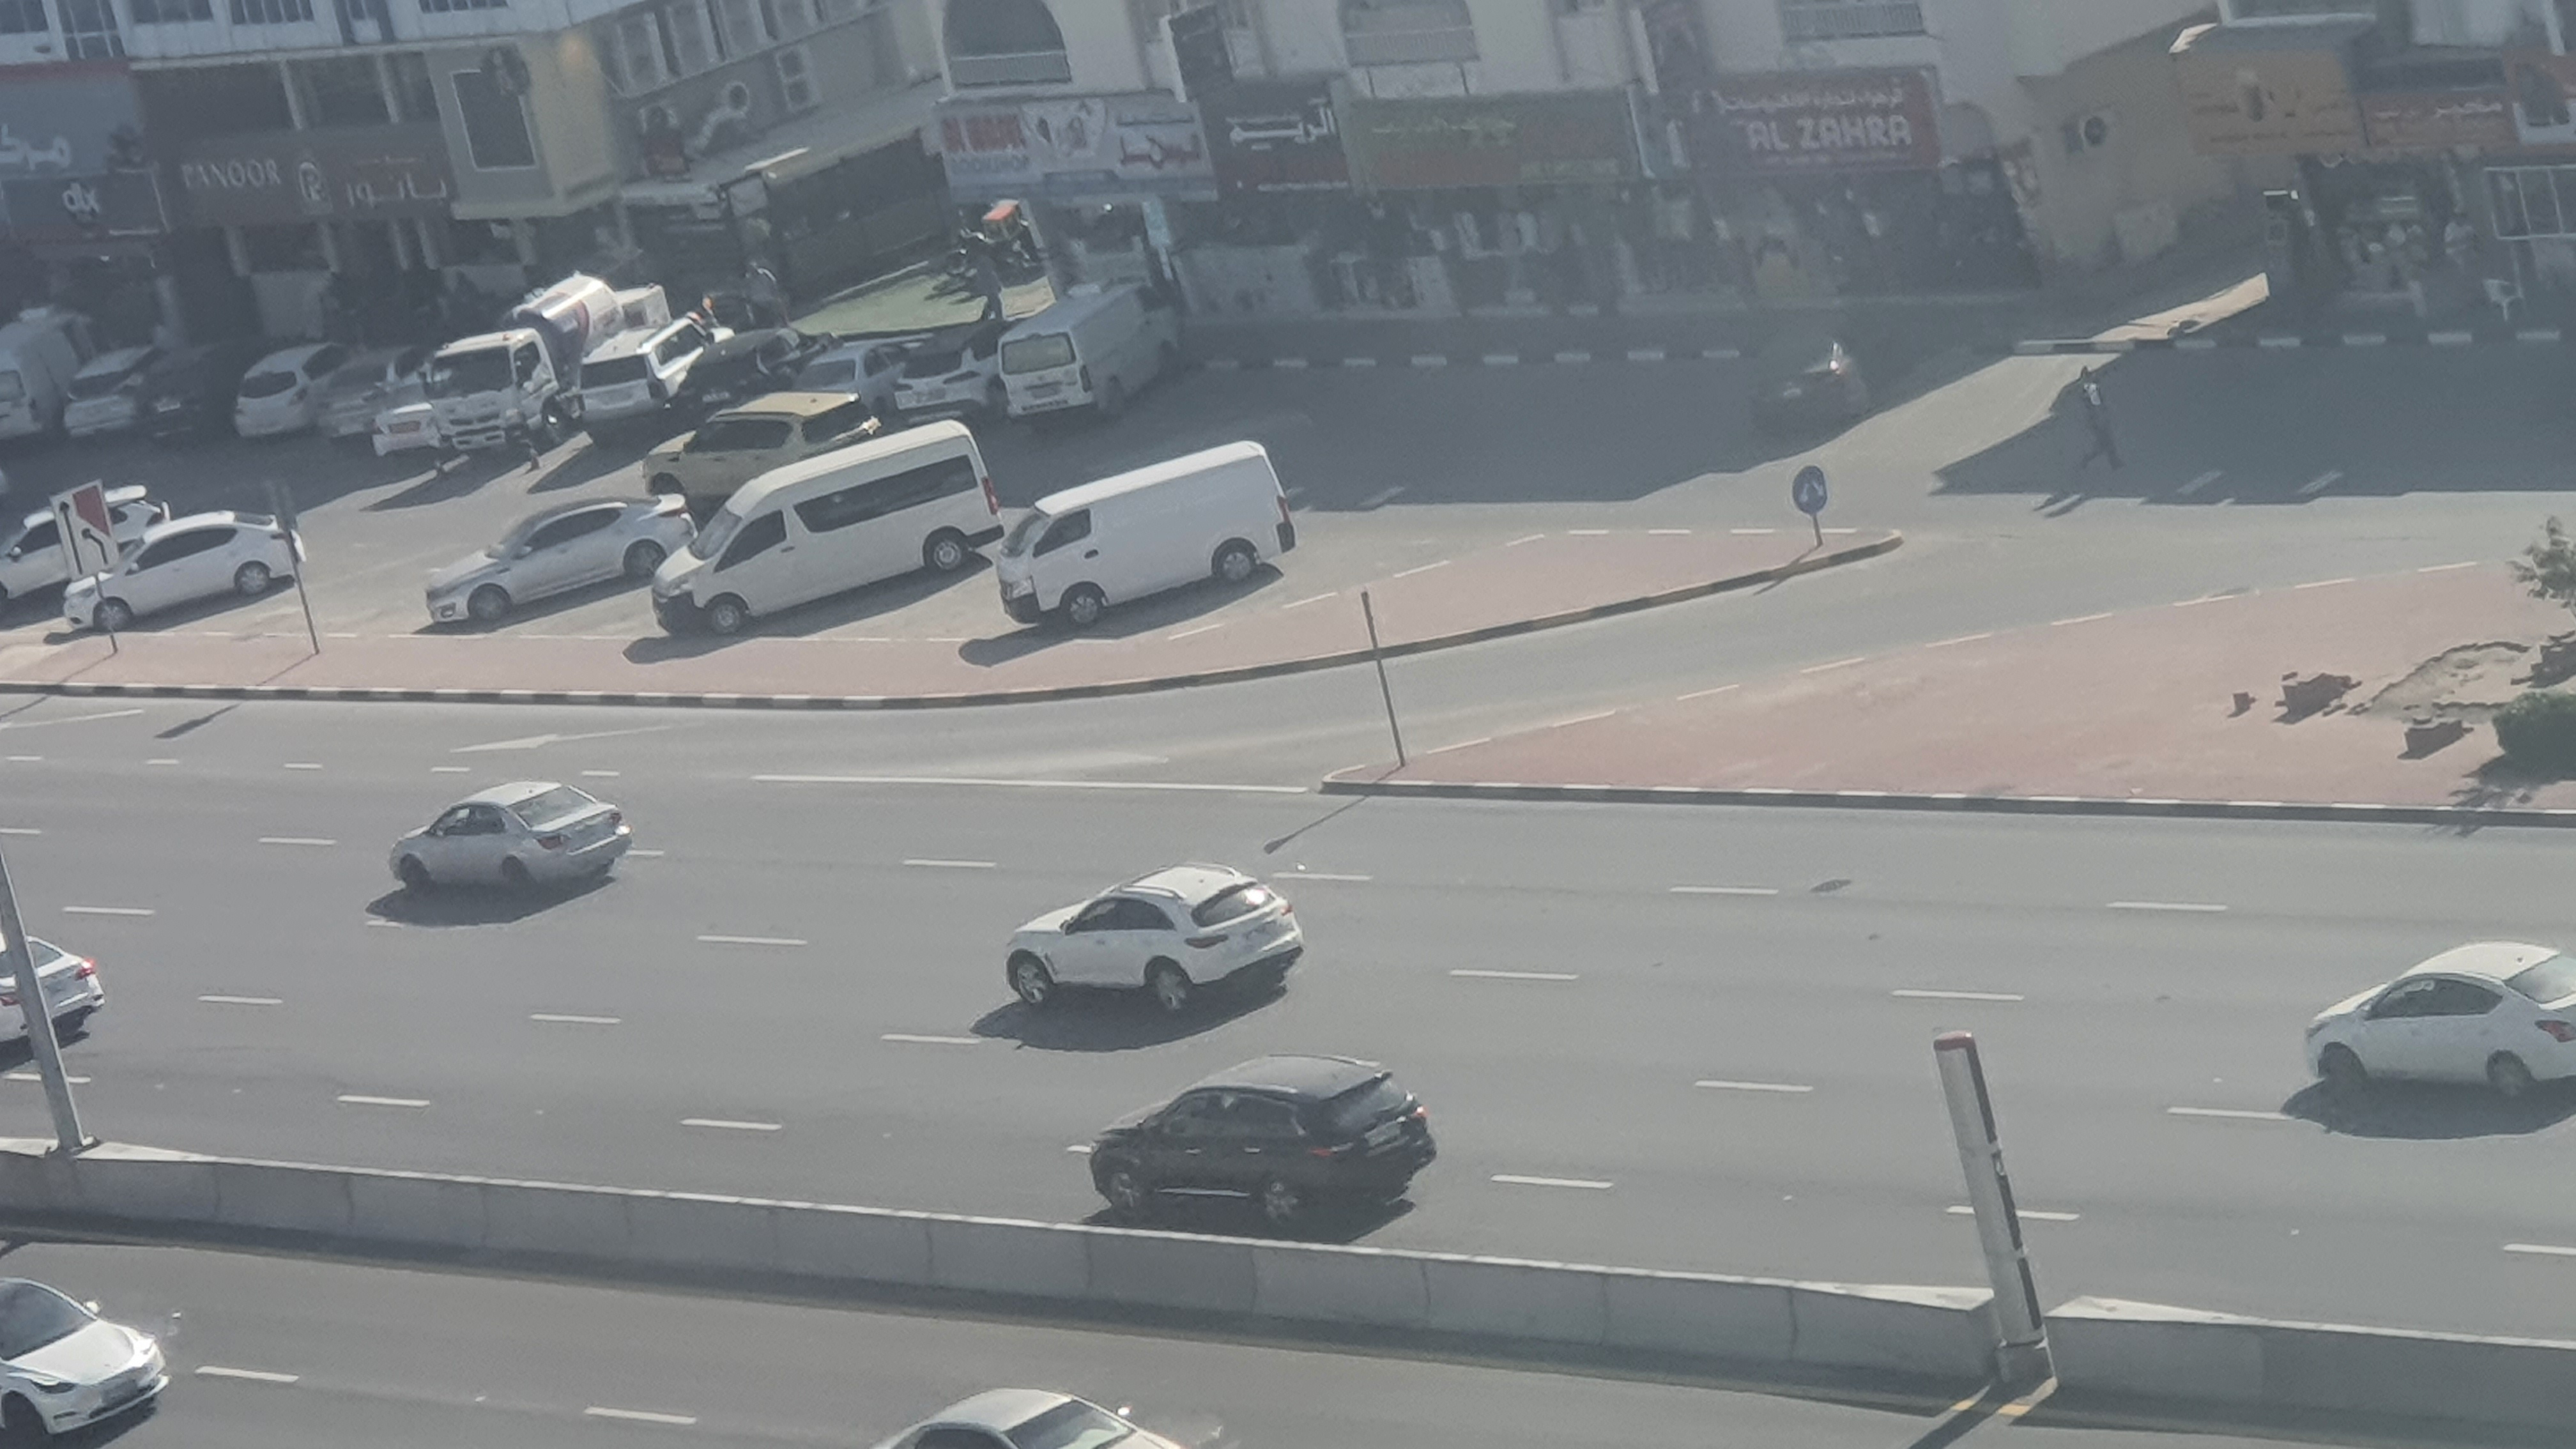NotSunroof: (876, 1373, 1205, 1449)
